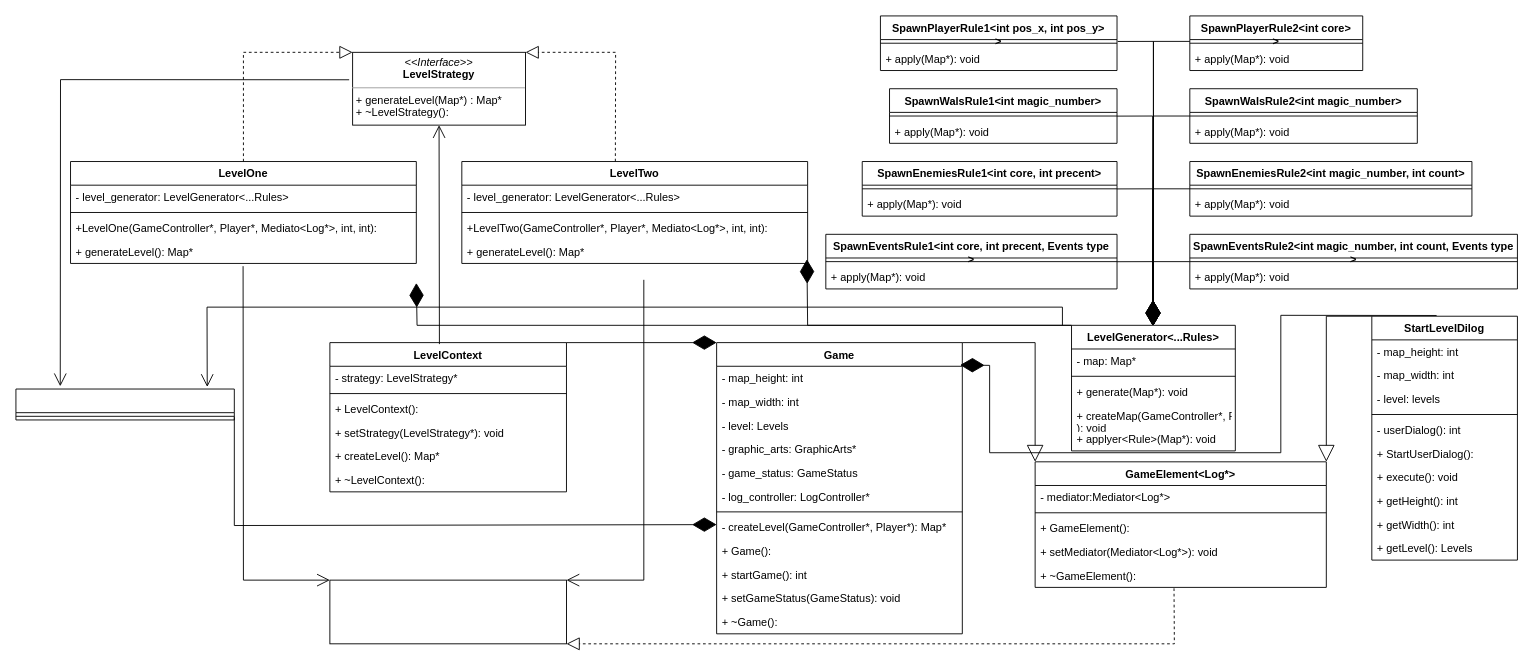
The diagram is 1533 pixels wide and 672 high, and some of its shapes have lost their labels. Here are the shapes that lost their labels. From the top down, the centre of each, then its label:
pixel 124 404: Map
pixel 447 611: <<Interface>> Mediator<Log*> + send(Log*): void
